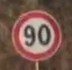limite 90: (9, 8, 63, 61)
